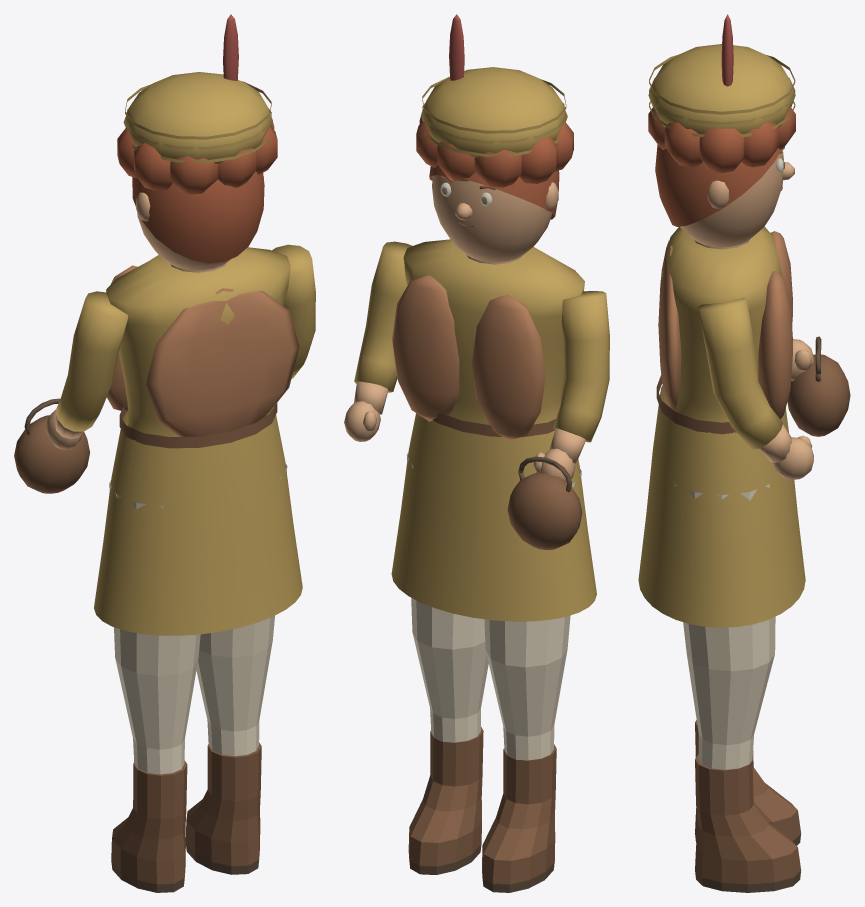
The model's file is SM_NPC_CHISPA.glb.
3 views of the same model, side by side, from view 1: azimuth 30°, elevation 25°; view 2: azimuth 150°, elevation 25°; view 3: azimuth 270°, elevation 25° (orthographic). The views are drawn at different scales.
Visible parts, largest first — view 1: SM_NPC_CHISPA_BODY, SM_NPC_CHISPA_HAIR, SM_NPC_CHISPA_LEG_L, SM_NPC_CHISPA_LEG_R, SM_NPC_CHISPA_ARM_L, SM_NPC_CHISPA_ARM_R, SM_NPC_CHISPA_HEAD; view 2: SM_NPC_CHISPA_BODY, SM_NPC_CHISPA_LEG_L, SM_NPC_CHISPA_HAIR, SM_NPC_CHISPA_LEG_R, SM_NPC_CHISPA_ARM_L, SM_NPC_CHISPA_HEAD, SM_NPC_CHISPA_ARM_R; view 3: SM_NPC_CHISPA_BODY, SM_NPC_CHISPA_LEG_R, SM_NPC_CHISPA_HAIR, SM_NPC_CHISPA_ARM_R, SM_NPC_CHISPA_ARM_L, SM_NPC_CHISPA_HEAD, SM_NPC_CHISPA_LEG_L.
Part boxes in pixels (left/top/right/bottom): SM_NPC_CHISPA_BODY: left=94, top=247, right=302, bottom=635; SM_NPC_CHISPA_HAIR: left=117, top=14, right=277, bottom=263; SM_NPC_CHISPA_LEG_L: left=109, top=481, right=200, bottom=892; SM_NPC_CHISPA_LEG_R: left=185, top=464, right=287, bottom=874; SM_NPC_CHISPA_ARM_L: left=14, top=291, right=128, bottom=493; SM_NPC_CHISPA_ARM_R: left=272, top=244, right=315, bottom=378; SM_NPC_CHISPA_HEAD: left=136, top=177, right=263, bottom=270; SM_NPC_CHISPA_BODY: left=391, top=239, right=596, bottom=621; SM_NPC_CHISPA_LEG_L: left=482, top=469, right=581, bottom=892; SM_NPC_CHISPA_HAIR: left=416, top=14, right=573, bottom=219; SM_NPC_CHISPA_LEG_R: left=406, top=453, right=488, bottom=874; SM_NPC_CHISPA_ARM_L: left=507, top=291, right=609, bottom=549; SM_NPC_CHISPA_HEAD: left=432, top=175, right=558, bottom=262; SM_NPC_CHISPA_ARM_R: left=344, top=241, right=412, bottom=441; SM_NPC_CHISPA_BODY: left=638, top=226, right=805, bottom=627; SM_NPC_CHISPA_LEG_R: left=674, top=484, right=801, bottom=892; SM_NPC_CHISPA_HAIR: left=648, top=14, right=795, bottom=226; SM_NPC_CHISPA_ARM_R: left=697, top=297, right=813, bottom=479; SM_NPC_CHISPA_ARM_L: left=787, top=336, right=850, bottom=436; SM_NPC_CHISPA_HEAD: left=680, top=149, right=794, bottom=247; SM_NPC_CHISPA_LEG_L: left=695, top=720, right=801, bottom=845.
Bounding box in the file's own units: 0.6323 × 2.01 × 0.4477.
